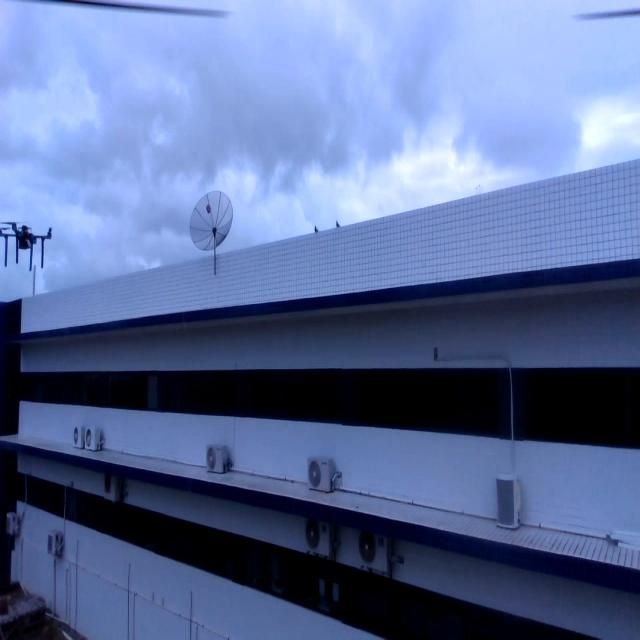-uav-: (0, 214, 63, 281)
